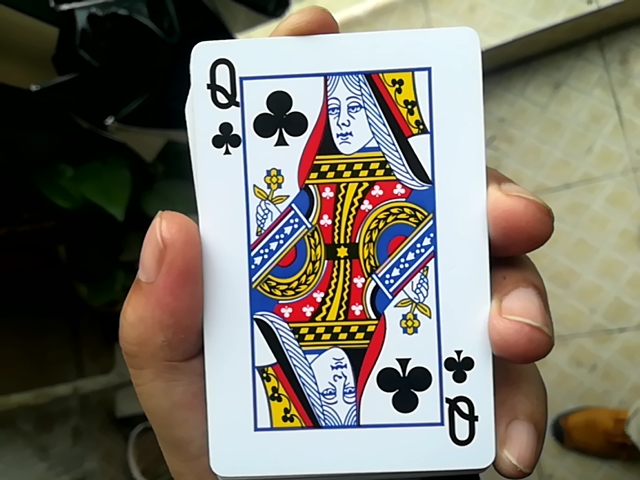mh q: (170, 27, 492, 476)
